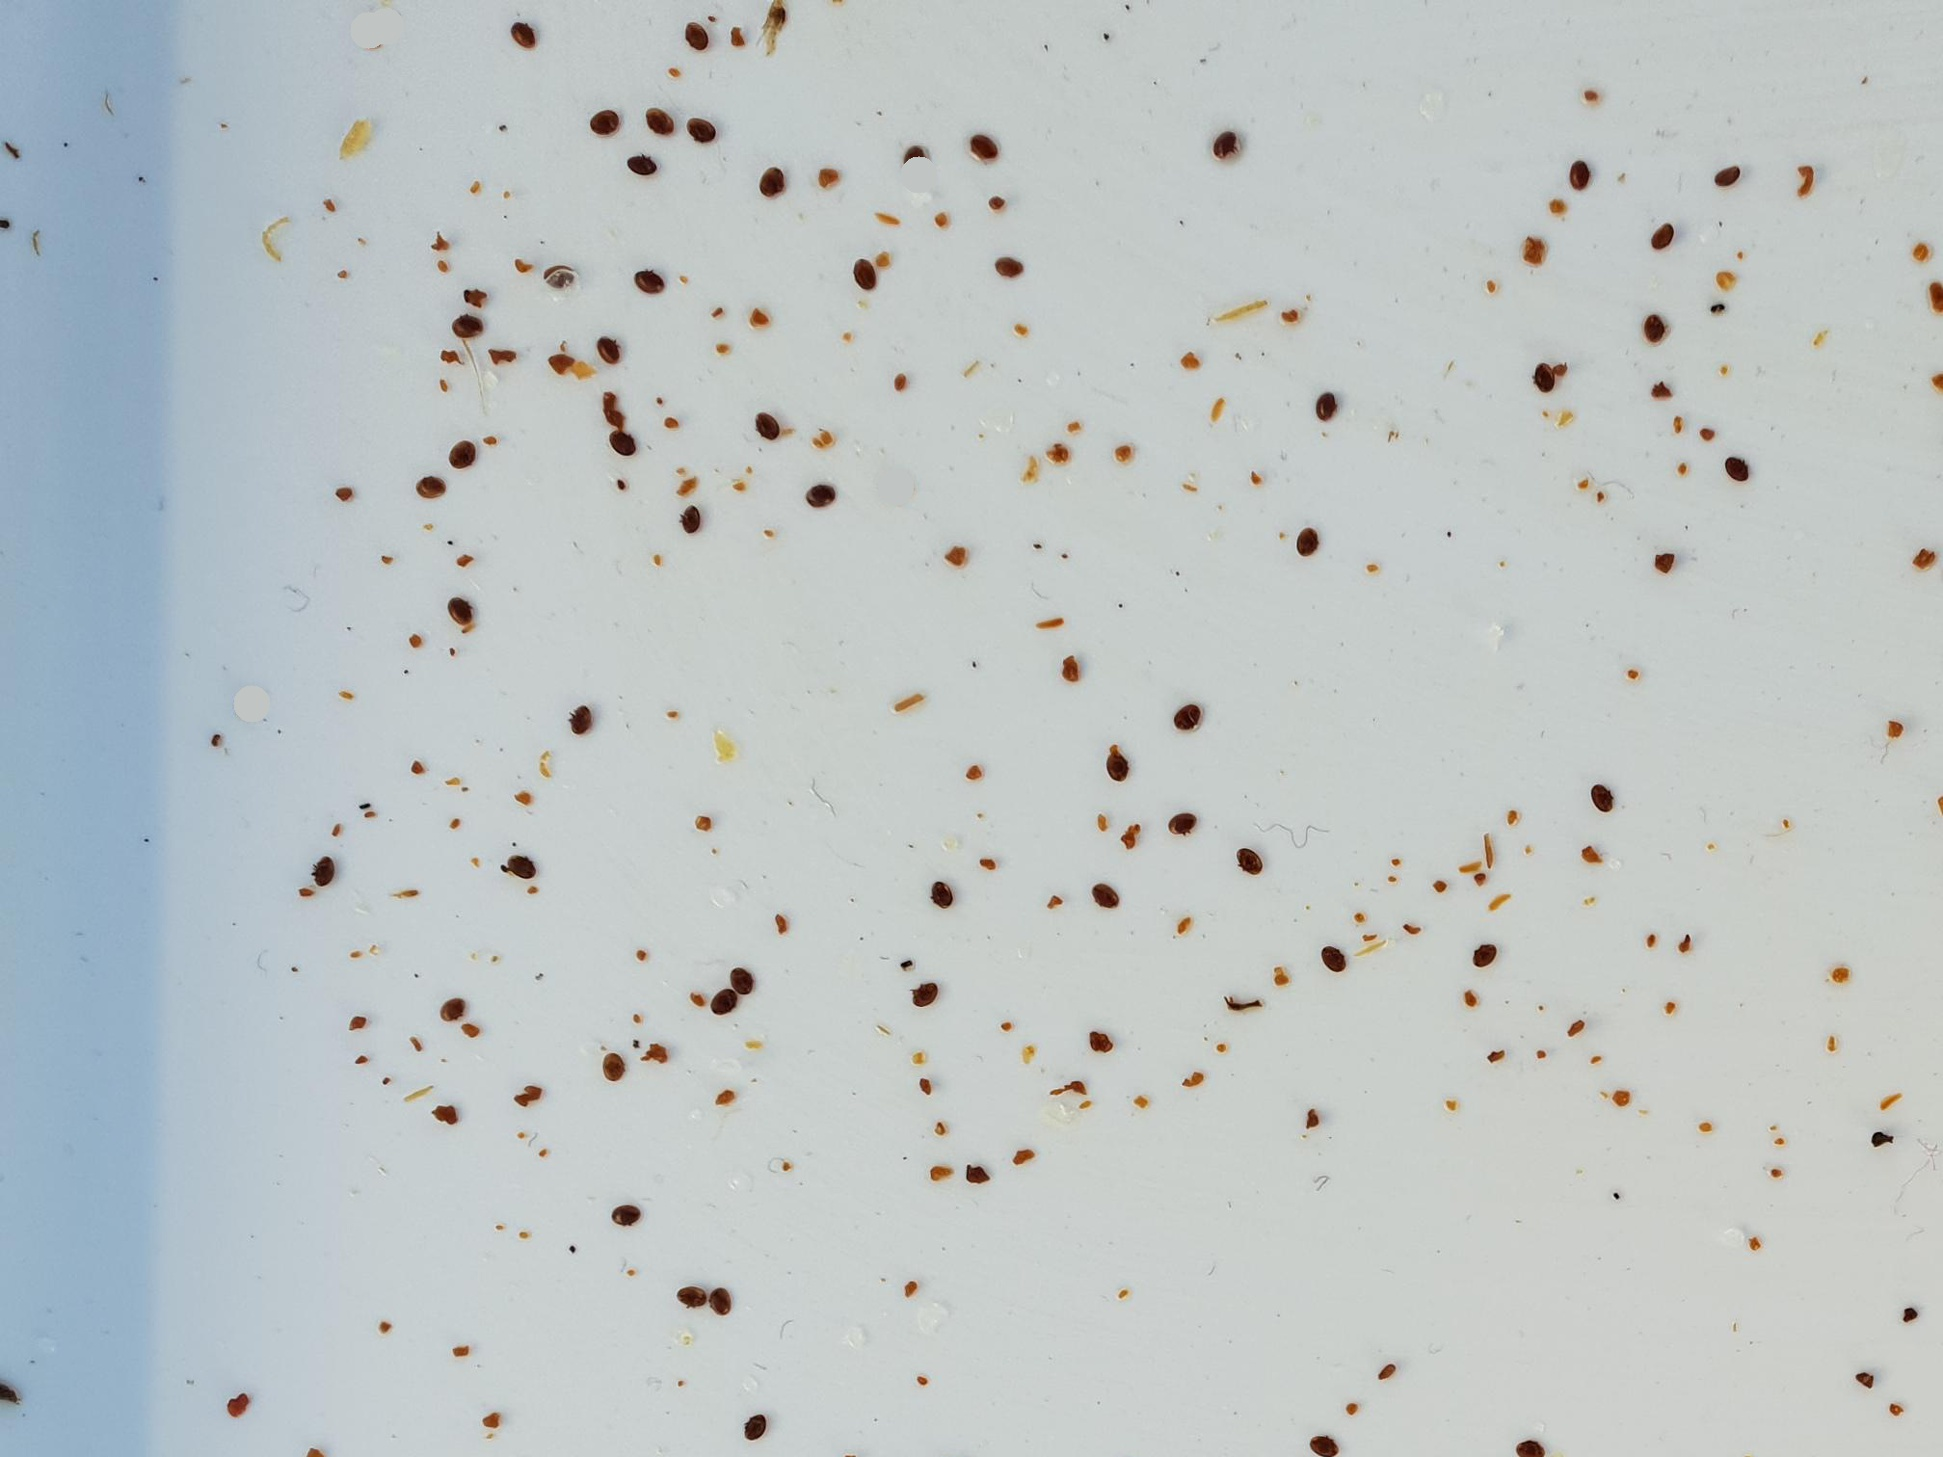Varroa: (640, 101, 678, 139), (545, 266, 580, 302), (1169, 813, 1199, 842), (740, 1410, 770, 1439), (676, 500, 704, 531), (447, 598, 474, 626), (597, 1048, 623, 1077), (511, 852, 537, 880), (973, 133, 999, 161), (317, 860, 343, 888), (1723, 458, 1749, 484), (929, 877, 955, 903), (727, 966, 751, 993), (441, 993, 464, 1022), (1238, 842, 1261, 869), (692, 115, 714, 142), (1175, 699, 1199, 724), (682, 24, 708, 47), (903, 142, 926, 168), (454, 439, 474, 468), (1323, 946, 1346, 970), (913, 979, 936, 1004), (1314, 392, 1339, 415), (454, 312, 477, 337), (759, 168, 783, 191), (1643, 312, 1666, 337), (1212, 133, 1236, 156), (679, 1281, 704, 1304), (1535, 361, 1557, 384), (571, 709, 592, 732), (808, 485, 829, 507), (1570, 164, 1590, 187), (1717, 165, 1736, 187), (519, 24, 539, 44), (1294, 531, 1313, 551), (589, 109, 607, 129), (415, 476, 431, 496), (711, 1292, 730, 1309), (632, 156, 652, 171), (1593, 787, 1609, 803), (1479, 946, 1495, 960), (1657, 228, 1671, 243), (603, 340, 618, 354), (1002, 257, 1016, 271), (762, 415, 776, 429), (1319, 1436, 1333, 1449), (618, 433, 630, 447), (1098, 891, 1111, 903), (863, 282, 878, 291), (620, 1206, 630, 1218), (650, 279, 659, 292), (858, 266, 869, 277), (1114, 764, 1124, 774), (716, 995, 727, 1006)
